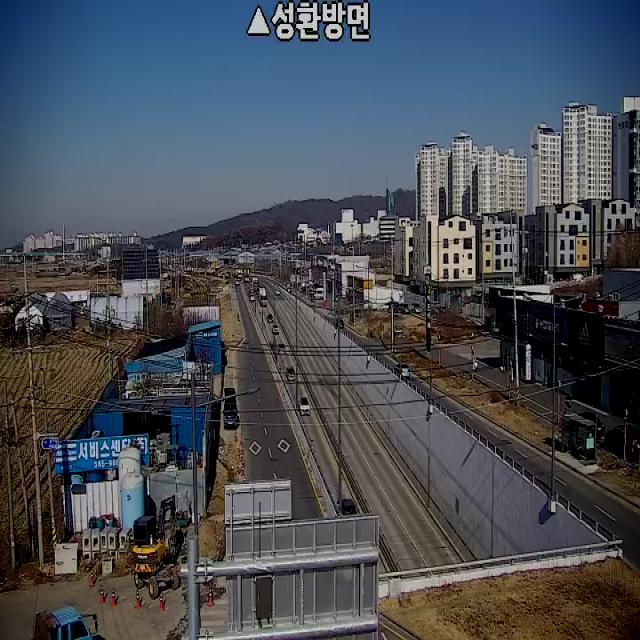Car: (605, 424, 640, 460), (573, 411, 604, 441), (336, 499, 356, 516), (298, 397, 311, 416), (394, 363, 410, 378), (286, 365, 296, 381), (278, 344, 286, 354), (336, 319, 344, 328), (272, 324, 279, 334), (267, 313, 273, 323)
Truck: (127, 497, 187, 595), (34, 607, 99, 640), (222, 388, 236, 428), (259, 287, 267, 306)
